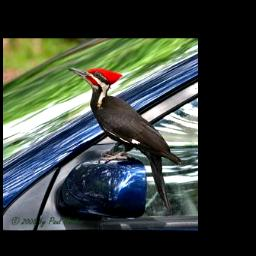Woodpecker: (66, 66, 184, 215)
